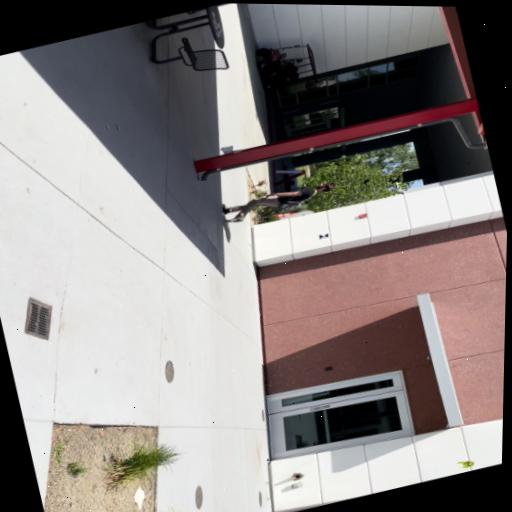target6: (318, 232, 329, 239)
